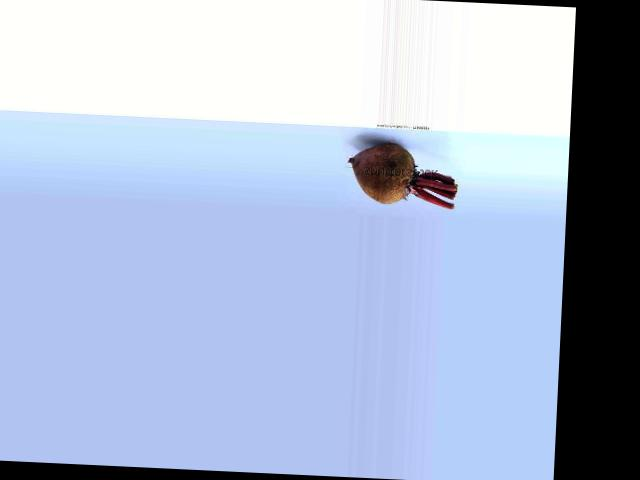beet: (348, 142, 457, 207)
